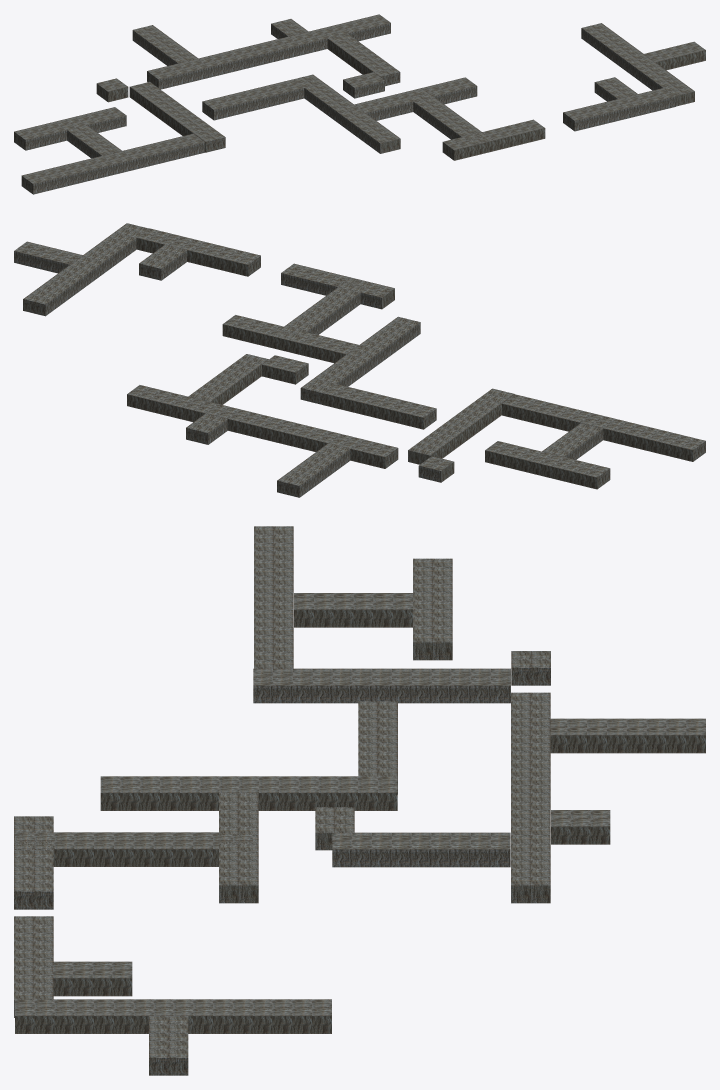
File: jalan-patrick.glb
3 renders of one model, top to bottom at view 1: azimuth 30°, elevation 25°; view 2: azimuth 150°, elevation 25°; view 3: azimuth 270°, elevation 25°, orthographic. The views are drawn at different scales.
Parts seen in each view (by area): view 1: Cube.027, Cube.030, Cube.001, Cube.021, Cube.002, Cube.029, Cube.005, Cube.026, Cube.032, Cube.034, Cube.004, Cube.036 (+7 smaller); view 2: Cube.027, Cube.030, Cube.001, Cube.021, Cube.005, Cube.032, Cube.029, Cube.026, Cube.002, Cube.004, Cube.034, Cube.028 (+7 smaller); view 3: Cube.001, Cube.021, Cube.029, Cube.027, Cube.004, Cube.036, Cube.030, Cube.028, Cube.005, Cube.031, Cube.032, Cube.034 (+7 smaller).
Part boxes in pixels (x1,y1,x2,y2): Cube.027: (147,14,390,89); Cube.030: (21,133,204,194); Cube.001: (581,23,694,106); Cube.021: (293,74,400,153); Cube.002: (563,88,675,131); Cube.029: (129,82,225,152); Cube.005: (345,77,477,120); Cube.026: (202,79,304,120); Cube.032: (14,107,126,150); Cube.034: (442,119,545,160); Cube.004: (404,89,493,145); Cube.036: (327,33,400,86); Cube.027: (127,385,398,468); Cube.030: (502,394,705,461); Cube.001: (23,223,148,316); Cube.021: (300,316,420,404); Cube.005: (222,315,366,363); Cube.032: (485,441,610,489); Cube.029: (408,388,514,464); Cube.026: (322,384,436,429); Cube.002: (136,228,260,276); Cube.004: (274,278,372,339); Cube.034: (281,263,394,309); Cube.028: (277,443,350,497); Cube.001: (15,999,331,1033); Cube.021: (100,776,397,810); Cube.029: (253,668,510,703); Cube.027: (511,692,550,903); Cube.004: (15,832,252,866); Cube.036: (332,832,510,867); Cube.030: (254,526,293,668); Cube.028: (548,718,705,753); Cube.005: (219,793,258,903); Cube.031: (294,593,412,627); Cube.032: (413,558,452,660); Cube.034: (14,816,53,909).
Bounding box in the file's own units: 63.5 × 1 × 34.93.
Materials: 19 (19 with a texture image).
